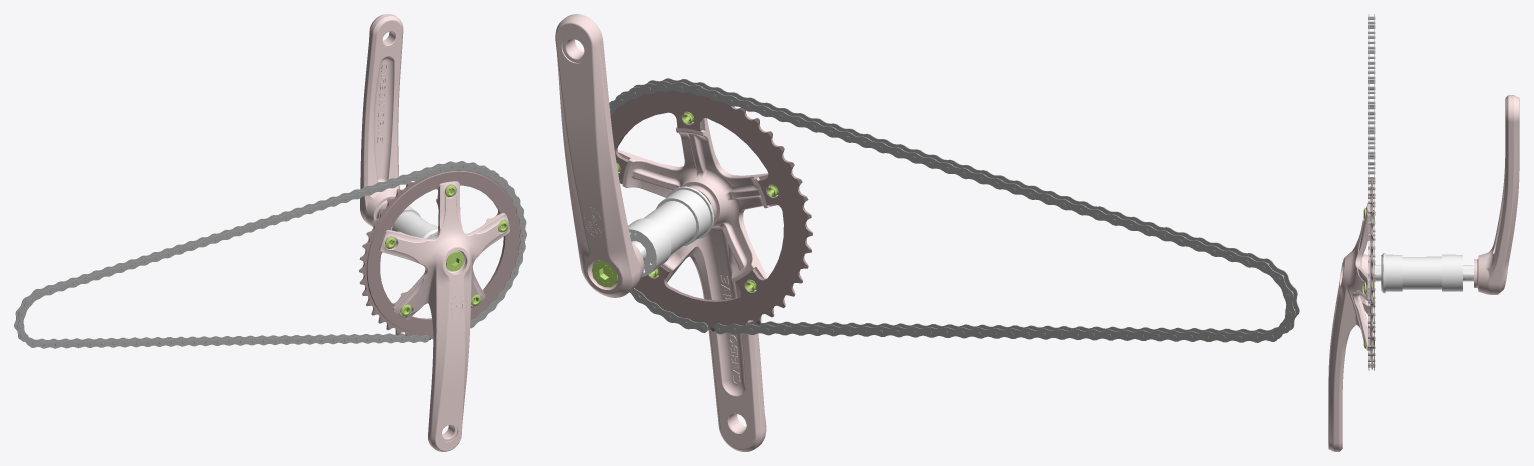
Rendered from CrankSet.glb.
3 renders of one model, left to right at view 1: azimuth 30°, elevation 25°; view 2: azimuth 150°, elevation 25°; view 3: azimuth 270°, elevation 25°, orthographic. The views are drawn at different scales.
Parts seen in each view (by area): view 1: no_transformations (×5); view 2: no_transformations (×5); view 3: no_transformations (×4).
Part boxes in pixels (bbox=[...]): no_transformations (×5): bbox=[14, 14, 526, 451]; no_transformations (×5): bbox=[555, 14, 1299, 451]; no_transformations (×4): bbox=[1328, 14, 1519, 451].
Bounding box in the file's own units: 560 × 383 × 180.
